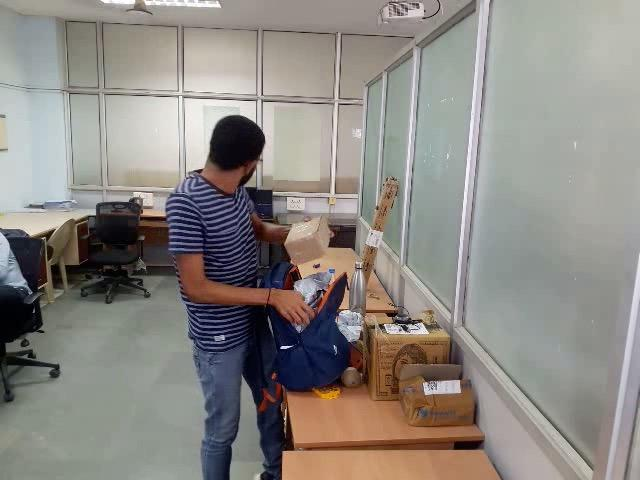shoplifting: (249, 208, 384, 398)
